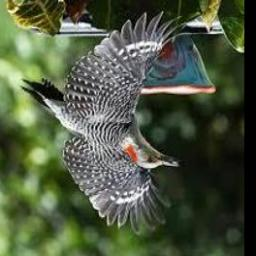Woodpecker: (21, 11, 200, 235)
